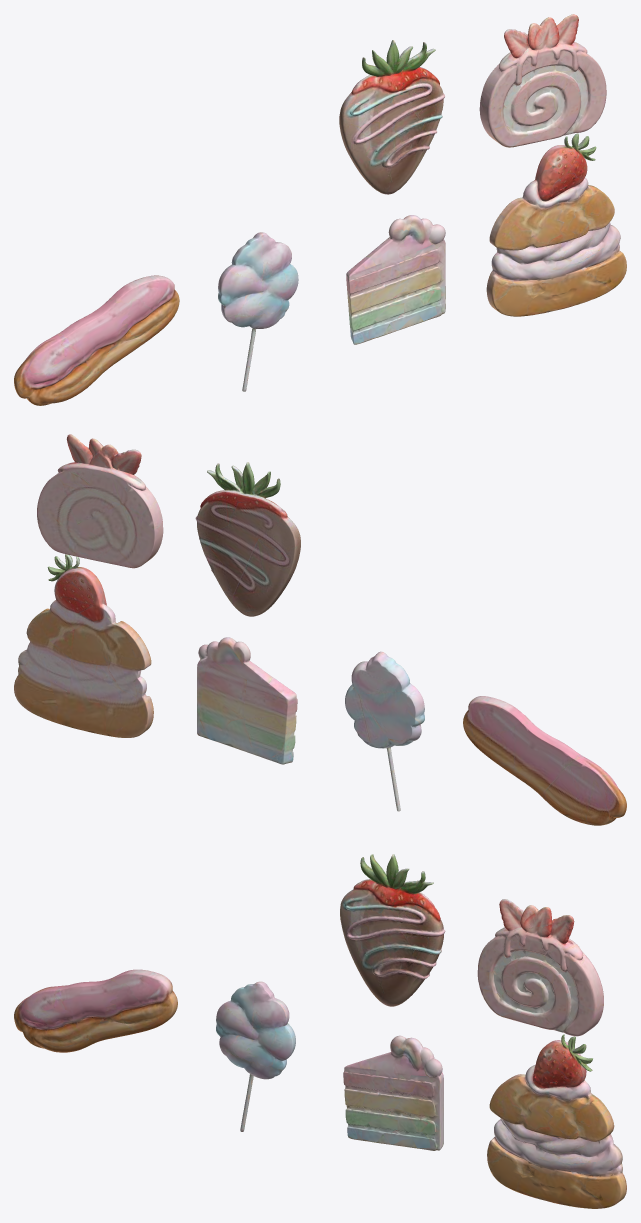
The picture shows the model from 3 angles, top to bottom: view 1: azimuth 30°, elevation 25°; view 2: azimuth 150°, elevation 25°; view 3: azimuth 330°, elevation 25°; orthographic projection.
Visible parts, largest first — view 1: Mesh 8, Mesh 7, Mesh 5, Mesh 1, Mesh 6, Mesh 4; view 2: Mesh 8, Mesh 7, Mesh 5, Mesh 1, Mesh 6, Mesh 4; view 3: Mesh 8, Mesh 7, Mesh 5, Mesh 1, Mesh 6, Mesh 4.
Boxes of the visible parts, left/top/right/bottom form: Mesh 8: left=486, top=133, right=626, bottom=316; Mesh 7: left=479, top=14, right=606, bottom=147; Mesh 5: left=339, top=40, right=444, bottom=194; Mesh 1: left=14, top=275, right=179, bottom=405; Mesh 6: left=346, top=215, right=445, bottom=344; Mesh 4: left=218, top=232, right=298, bottom=391; Mesh 8: left=14, top=554, right=153, bottom=737; Mesh 7: left=37, top=434, right=163, bottom=568; Mesh 5: left=195, top=462, right=300, bottom=616; Mesh 1: left=463, top=696, right=626, bottom=825; Mesh 6: left=197, top=637, right=297, bottom=764; Mesh 4: left=345, top=651, right=424, bottom=811; Mesh 8: left=487, top=1034, right=626, bottom=1208; Mesh 7: left=477, top=899, right=603, bottom=1036; Mesh 5: left=340, top=854, right=445, bottom=1006; Mesh 1: left=14, top=969, right=177, bottom=1052; Mesh 6: left=343, top=1035, right=443, bottom=1150; Mesh 4: left=216, top=981, right=295, bottom=1131.
Size of the model in its own units: 1.9 by 0.9352 by 0.0559.
Materials: 6 (6 with a texture image).
